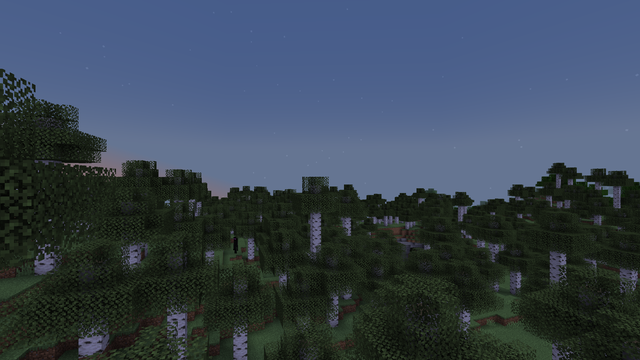endermens: (233, 236, 236, 253)
